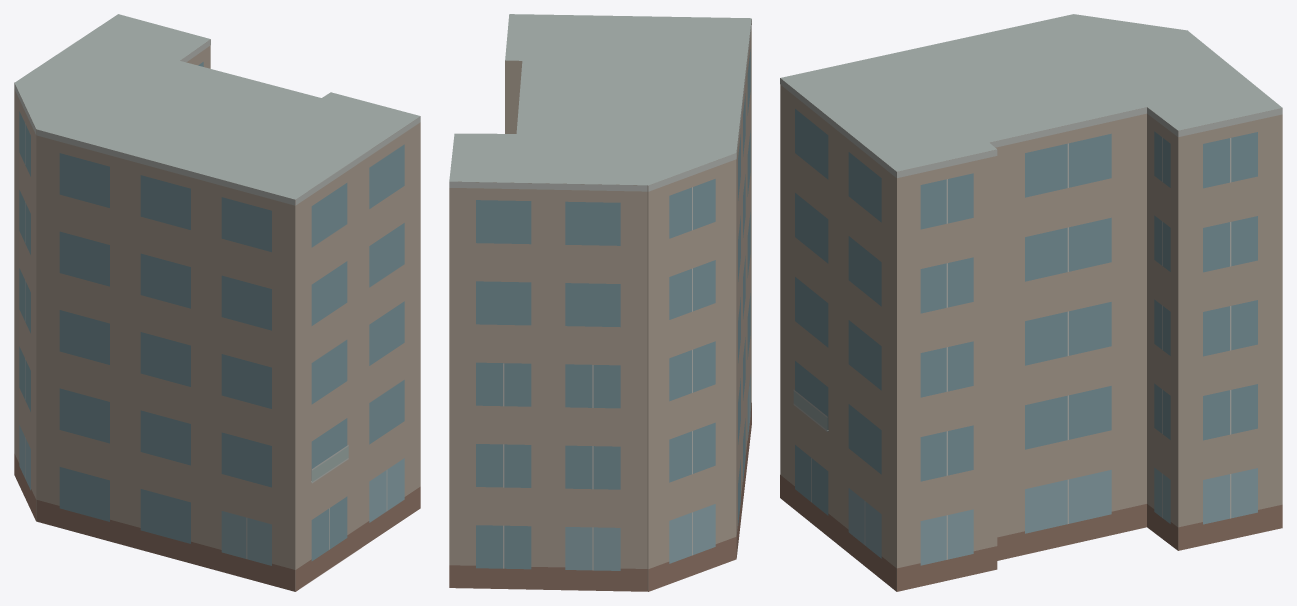
File: survey-upis-32838467.glb
The picture shows the model from 3 angles, left to right: view 1: azimuth 30°, elevation 25°; view 2: azimuth 150°, elevation 25°; view 3: azimuth 270°, elevation 25°; orthographic projection. The views are drawn at different scales.
Parts seen in each view (by area): view 1: survey-upis-32838467.tmp; view 2: survey-upis-32838467.tmp; view 3: survey-upis-32838467.tmp.
Boxes of the visible parts, x1=… form: survey-upis-32838467.tmp: x1=14, y1=14, x2=420, y2=591; survey-upis-32838467.tmp: x1=449, y1=14, x2=751, y2=591; survey-upis-32838467.tmp: x1=780, y1=14, x2=1282, y2=591.
Bounding box in the file's own units: 12.74 × 15.8 × 17.14.
